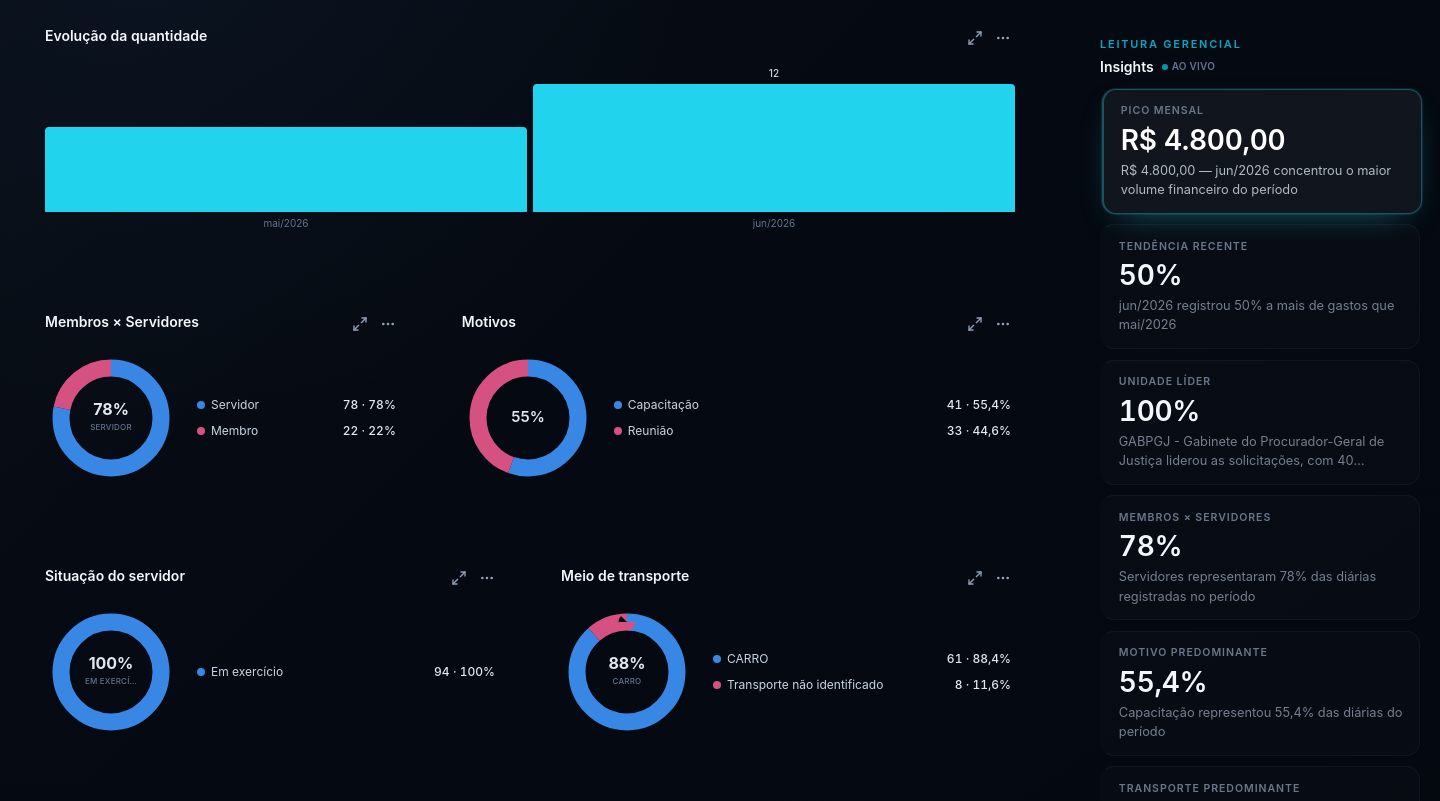
Test case: ModoExecutivo › painel lateral contextual (Sprint 21.4) › clicar num ponto de MOTIVO nunca mostra a seção 'Principais motivos' de novo (seria um único bucket a 100%, redundante)
The width and height of the screenshot is (1440, 801).
(page scrolled)
Expected: the heading "Motivos" is shown, [462,312,516,332]
Click the button with aria-label "Filtrar por Capacitação" at (663, 404), box [610,395,1015,415]
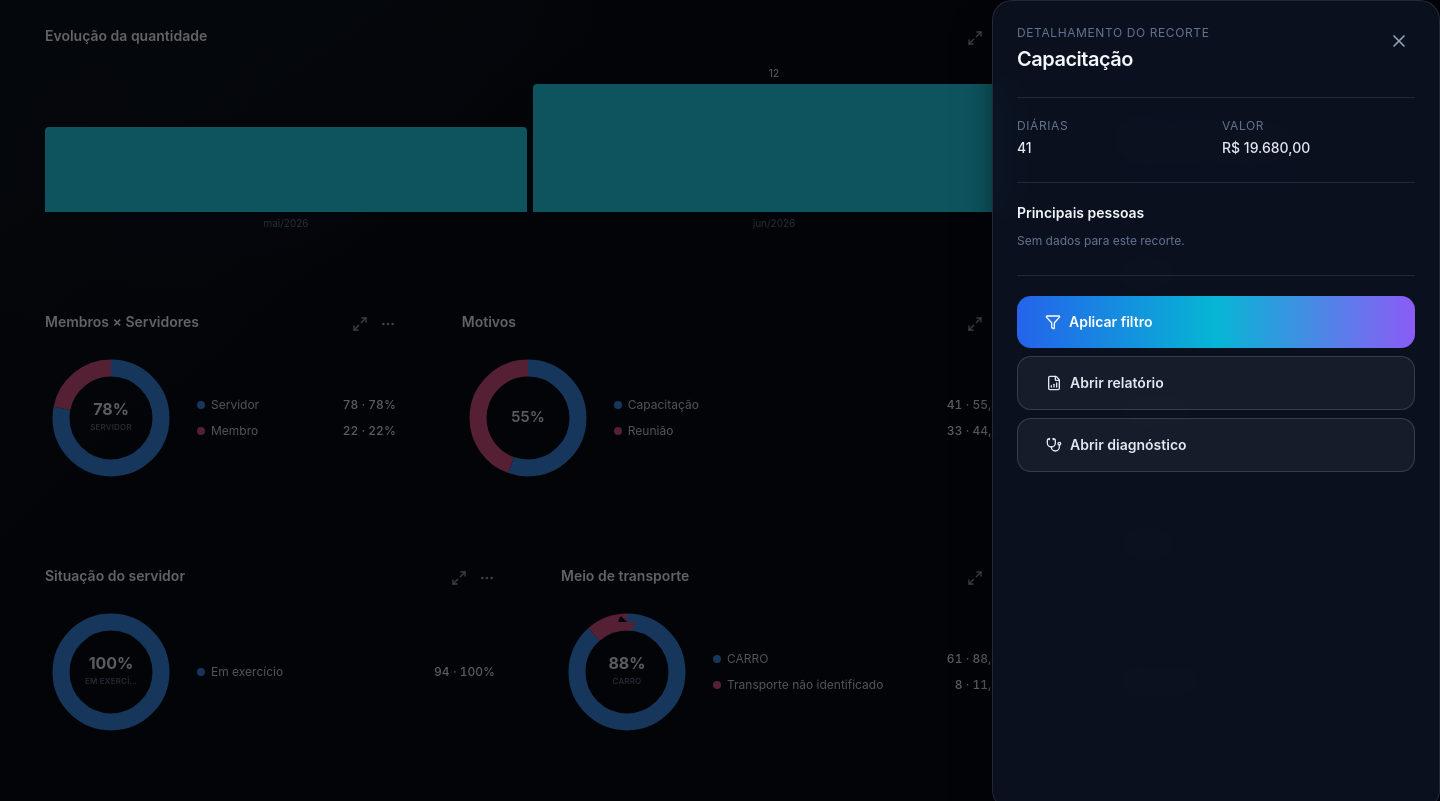
Now the heading "Capacitação" is shown, box [1017,47,1133,71]
Now the heading "Principais pessoas" is shown, box [1017,204,1144,221]
